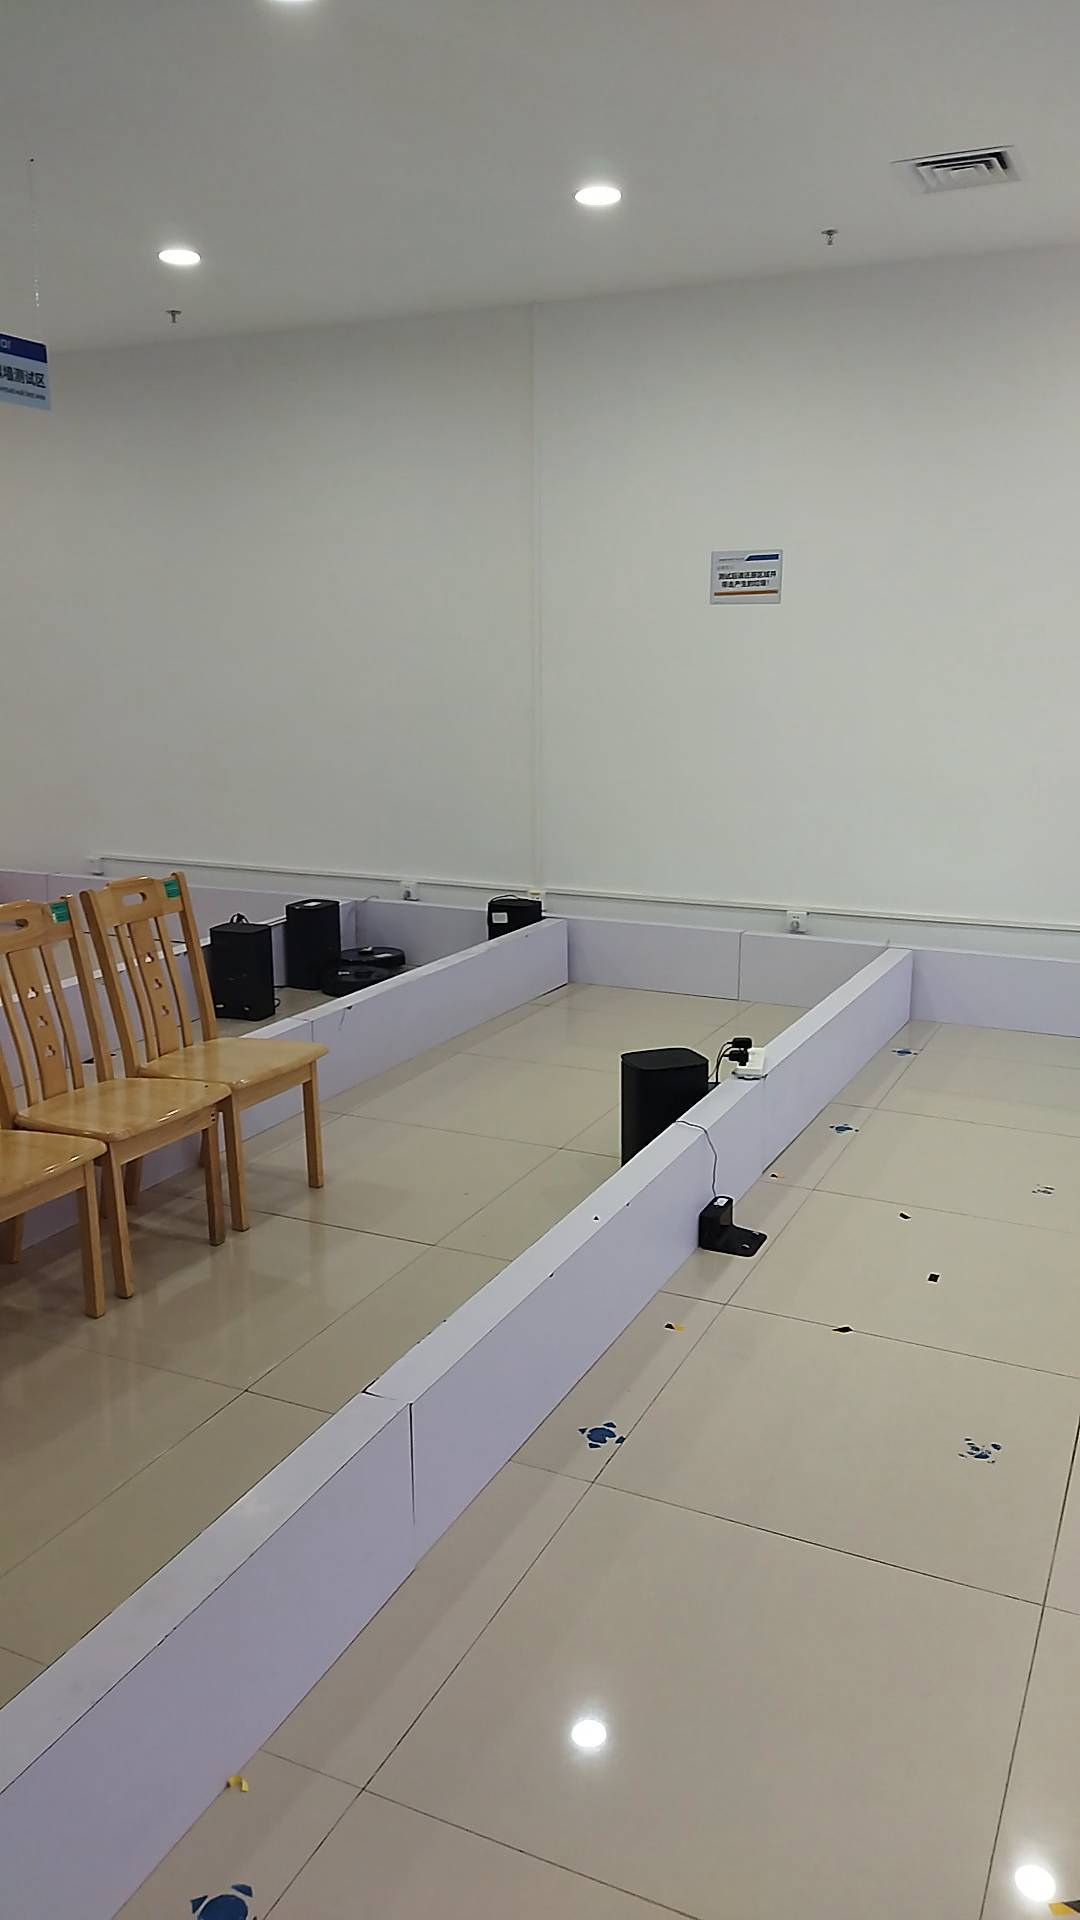dust collecting barrel: (615, 1047, 713, 1164), (210, 920, 278, 1019), (282, 899, 342, 993)
recharge seat: (698, 1195, 767, 1255)
